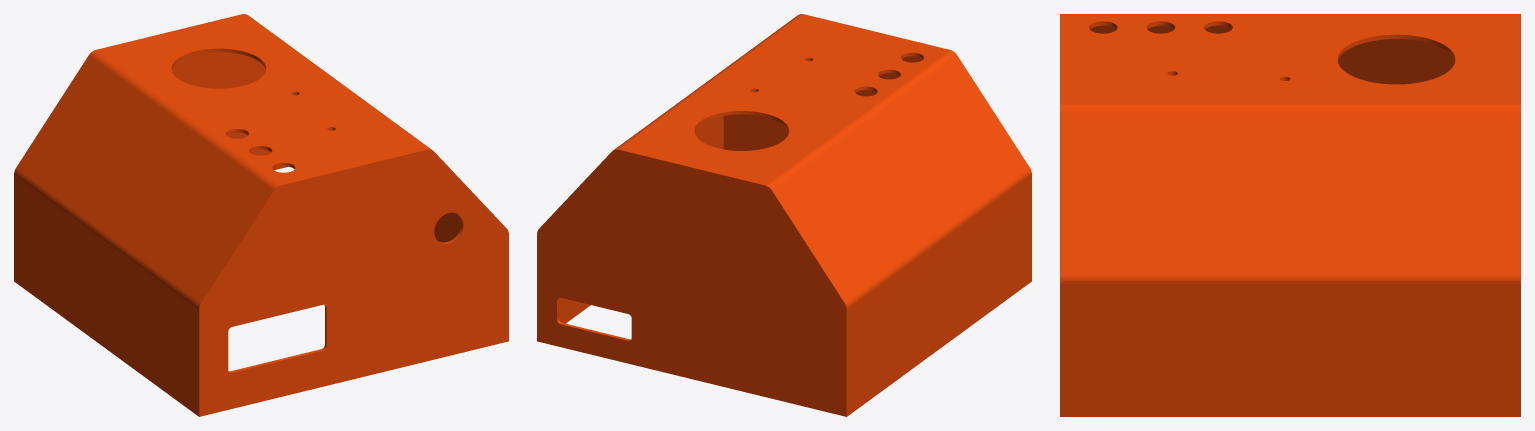
3 renders of one model, left to right at view 1: azimuth 30°, elevation 25°; view 2: azimuth 150°, elevation 25°; view 3: azimuth 270°, elevation 25°, orthographic. The views are drawn at different scales.
Visible parts, largest first — view 1: Base; view 2: Base; view 3: Base.
Part boxes in pixels (x1,y1,x2,y2): Base: (14, 14, 508, 416); Base: (537, 14, 1031, 416); Base: (1060, 14, 1520, 416).
Bounding box in the file's own units: 0.17 × 0.176 × 0.111.
